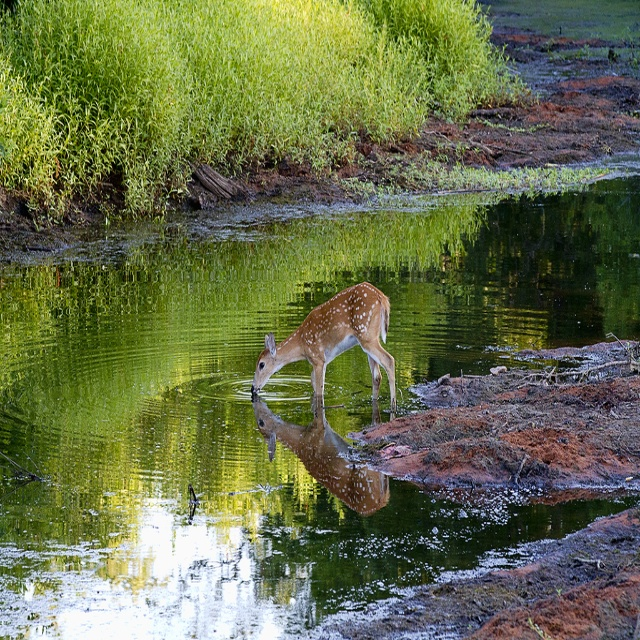Deer: (250, 275, 396, 412)
